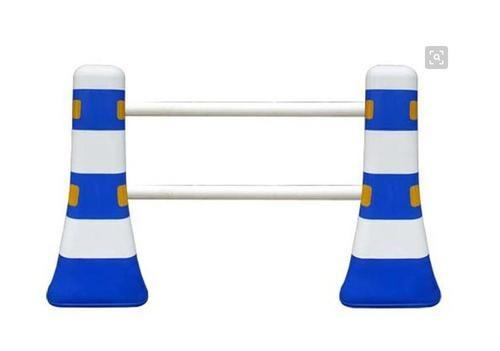cone_barrel: (35, 62, 153, 304), (331, 58, 448, 301)
